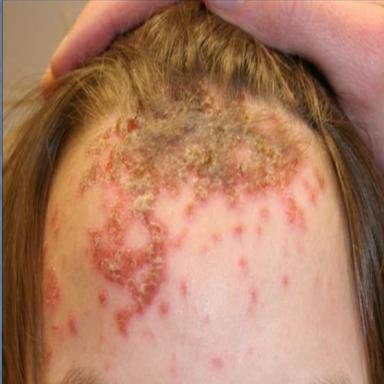Impetigo: (82, 83, 299, 309)
